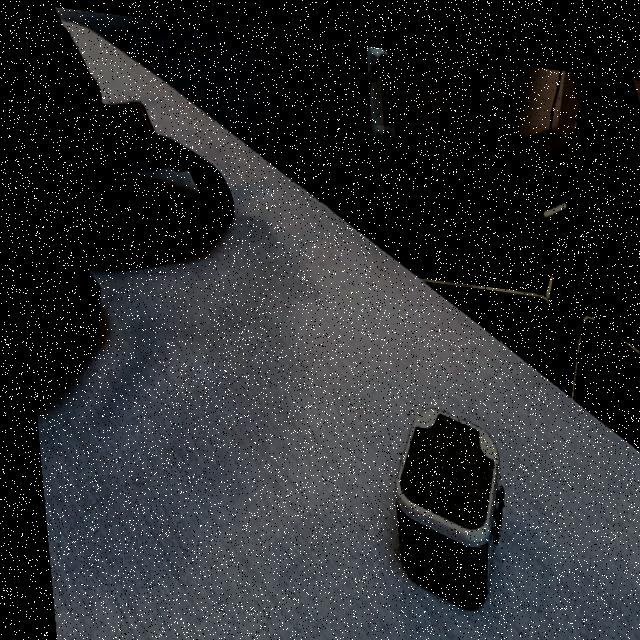adapter: (378, 391, 505, 602)
